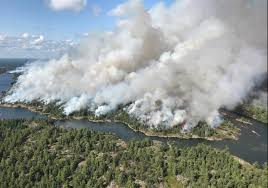smoke: (1, 0, 266, 126)
